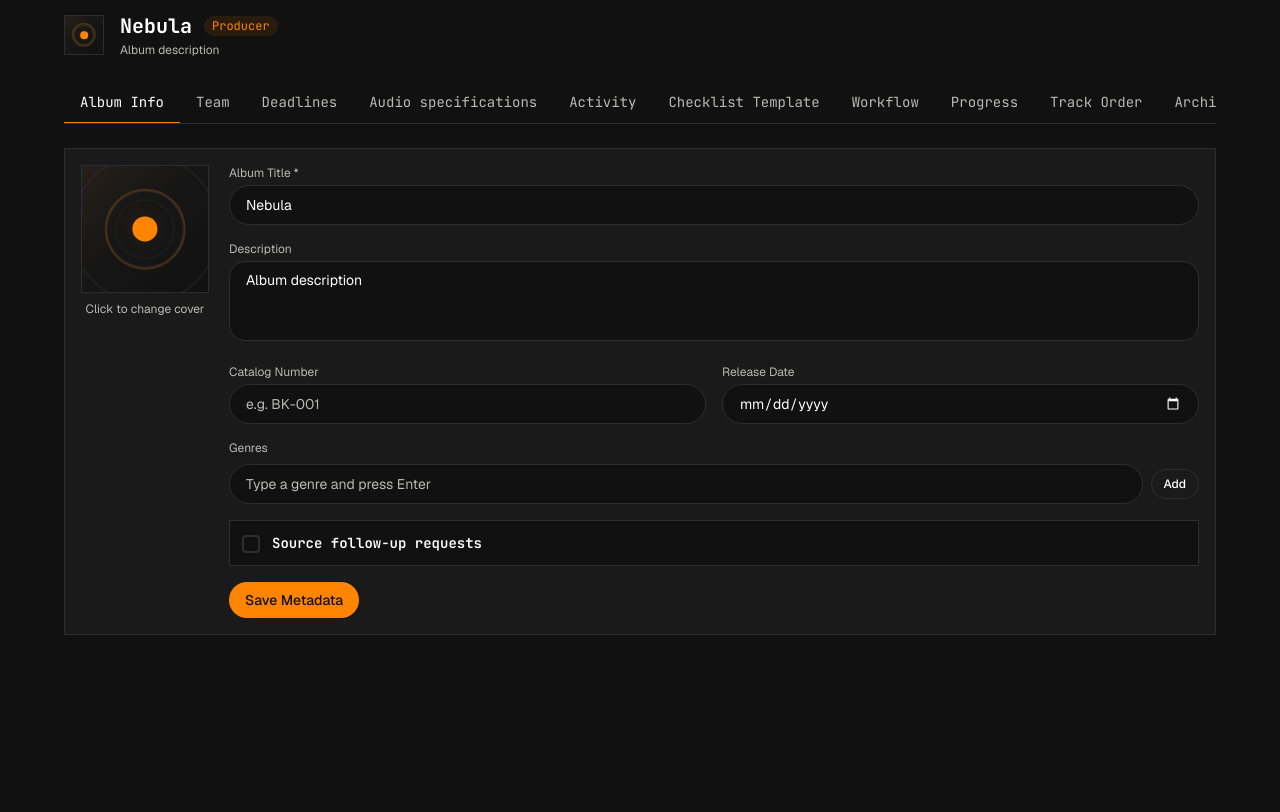
Scenario: AlbumSettingsView › keeps User ID invitations while limiting circle album team choices to circle members
What coordinates should you click on to do the following:
click the button "Team"
I would click on:
 (213, 103)
Its box is [180, 82, 246, 124].
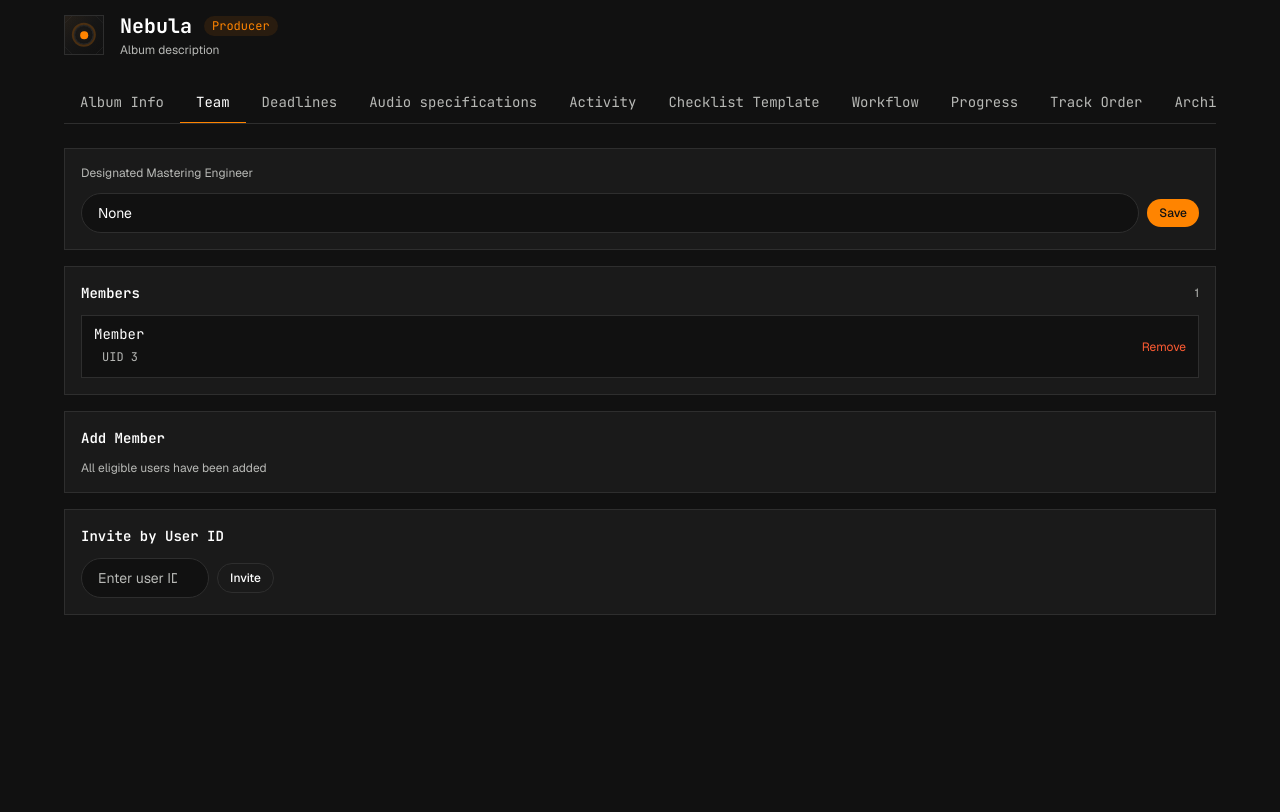
Now the text "Invite by User ID" is shown, box [81, 527, 224, 545]
